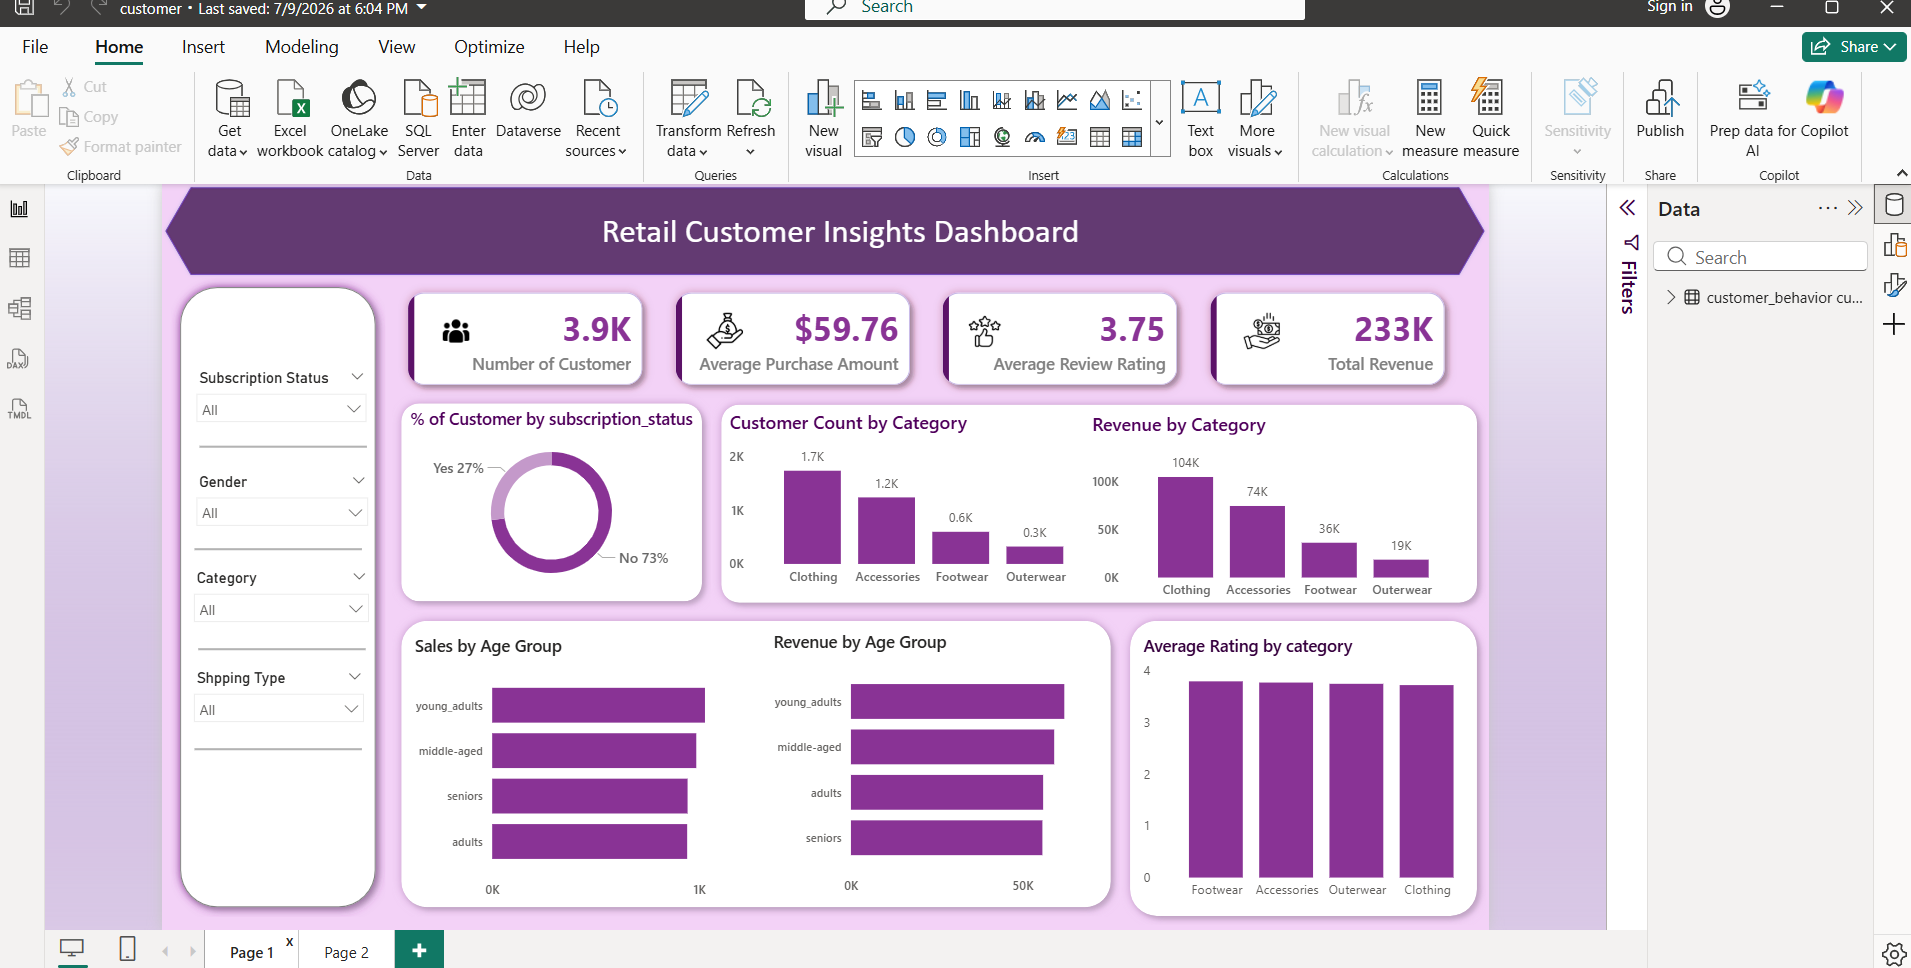

This screenshot's page, from the dashboard's own definition file:
{"tool":"powerbi","page":{"name":"Page 1","canvas":[1280,720],"ordinal":0},"visuals":[{"type":"cardVisual","fields":{"Data":["customer_behavior customer.Number of Customer","customer_behavior customer.Average Purchase Amount","customer_behavior customer.Average Review Rating","customer_behavior customer.Total Revenue"]},"box":[208.7,75.9,1059.4,147.4],"z":0},{"type":"shape","box":[0,0,1279.7,90.9],"z":1000},{"type":"textbox","box":[30.6,20.8,1249.7,122.3],"z":2000},{"type":"shape","box":[222.6,203,308.2,209.1],"z":3000},{"type":"shape","box":[530.9,203.4,747.4,209.2],"z":4000},{"type":"donutChart","title":"% of Customer by subscription_status","fields":{"Category":["customer_behavior customer.subscription_status"],"Y":["CountNonNull(customer_behavior customer.customer_id)"]},"box":[222.6,215.2,308.2,183.4],"z":5000},{"type":"shape","box":[222.2,412.5,702.8,294.4],"z":6000},{"type":"clusteredColumnChart","title":"Revenue by Category","fields":{"Y":["Sum(customer_behavior customer.purchase_amount)"],"Category":["customer_behavior customer.category"]},"box":[893.1,219.3,365,190.4],"z":7000},{"type":"clusteredColumnChart","title":"Customer Count by Category","fields":{"Y":["CountNonNull(customer_behavior customer.purchase_amount)"],"Category":["customer_behavior customer.category"]},"box":[542.9,218.9,363.2,178.5],"z":8000},{"type":"shape","box":[8.8,90.8,206.8,616.7],"z":9000},{"type":"slicer","fields":{"Values":["customer_behavior customer.gender"]},"box":[23.1,274.1,186.1,62],"z":10000},{"type":"slicer","title":"Shipping Type","fields":{"Values":["customer_behavior customer.shipping_type"]},"box":[20.2,463.1,184.7,59.2],"z":11000},{"type":"slicer","fields":{"Values":["customer_behavior customer.category"]},"box":[20.2,366.5,189,64.9],"z":12000},{"type":"barChart","title":"Revenue by Age Group","fields":{"Y":["Sum(customer_behavior customer.purchase_amount)"],"Category":["customer_behavior customer.age_group"]},"box":[584.7,430.6,361.1,265.3],"z":13000},{"type":"barChart","title":"Sales by Age Group","fields":{"Y":["CountNonNull(customer_behavior customer.purchase_amount)"],"Category":["customer_behavior customer.age_group"]},"box":[238.9,434.7,391.7,265.3],"z":14000},{"type":"slicer","fields":{"Values":["customer_behavior customer.subscription_status"]},"box":[23.1,173.1,184.7,60.6],"z":15000},{"type":"shape","box":[925,412.5,352.8,302.8],"z":16000},{"type":"columnChart","title":"Average  Rating by category","fields":{"Category":["customer_behavior customer.category"],"Y":["customer_behavior customer.Average Review Rating"]},"box":[941.7,434.7,338.9,265.3],"z":17000},{"type":"shape","box":[34.6,366.5,161.6,164.5],"z":18000},{"type":"shape","box":[31.7,269.8,161.6,164.5],"z":19000},{"type":"shape","box":[36.1,171.7,161.6,164.5],"z":20000},{"type":"shape","box":[31.7,463.1,161.6,164.5],"z":21000},{"type":"image","box":[262.8,129.6,41.2,25.4],"z":22000},{"type":"image","box":[765.3,125.9,58.1,33.9],"z":23000},{"type":"image","box":[1020.9,124.7,81.1,35.1],"z":24000},{"type":"image","box":[519.5,124.7,46,35.1],"z":25000}]}

Visuals, with their boxes on the page's 1280x720 design canvas (x1, y1, x2, y2). These are canvas units, not pixel positions in the 1911x968 screenshot, which may show the page scaled, cropped or inside an application window:
cardVisual - customer_behavior customer.Number of Customer x customer_behavior customer.Average Purchase Amount: 209, 76, 1268, 223
shape: 0, 0, 1280, 91
textbox: 31, 21, 1280, 143
shape: 223, 203, 531, 412
shape: 531, 203, 1278, 413
"% of Customer by subscription_status" donutChart: 223, 215, 531, 399
shape: 222, 412, 925, 707
"Revenue by Category" clusteredColumnChart: 893, 219, 1258, 410
"Customer Count by Category" clusteredColumnChart: 543, 219, 906, 397
shape: 9, 91, 216, 708
slicer - customer_behavior customer.gender: 23, 274, 209, 336
"Shipping Type" slicer: 20, 463, 205, 522
slicer - customer_behavior customer.category: 20, 366, 209, 431
"Revenue by Age Group" barChart: 585, 431, 946, 696
"Sales by Age Group" barChart: 239, 435, 631, 700
slicer - customer_behavior customer.subscription_status: 23, 173, 208, 234
shape: 925, 412, 1278, 715
"Average  Rating by category" columnChart: 942, 435, 1281, 700
shape: 35, 366, 196, 531
shape: 32, 270, 193, 434
shape: 36, 172, 198, 336
shape: 32, 463, 193, 628
image: 263, 130, 304, 155
image: 765, 126, 823, 160
image: 1021, 125, 1102, 160
image: 520, 125, 566, 160
